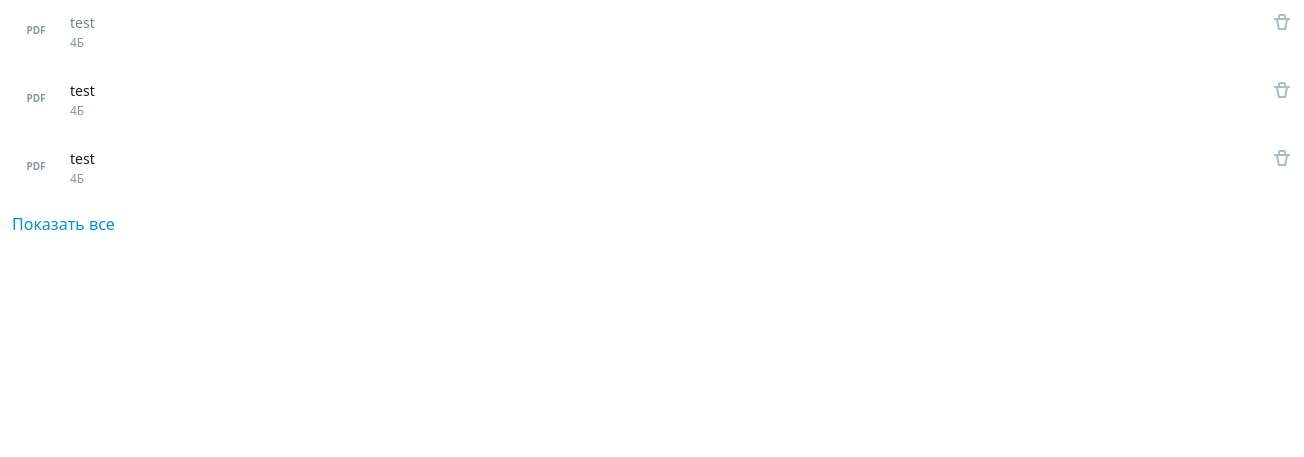
Scenario: Компонент AttachmentFileList › Если передан массив файлов с более чем тремя элементами и нажата кнопка "Показать все", то отображаются все файлы
Check: the number of "AttachmentFile" components is 3, box [12,12,1292,60]; [12,80,1292,128]; [12,148,1292,196]
Click the text "Показать все" at coordinates (63, 224), box [12,212,115,236]
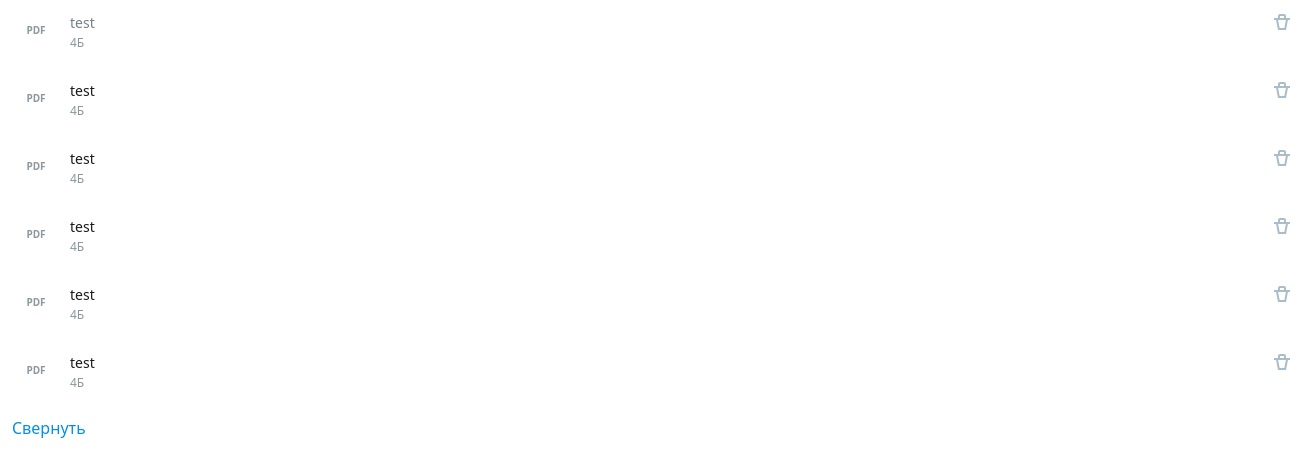
Check: the number of "AttachmentFile" components is 6, box [12,12,1292,60]; [12,80,1292,128]; [12,148,1292,196]; [12,216,1292,264]; [12,284,1292,332]; [12,352,1292,400]
Click the text "Свернуть" at coordinates (49, 428), box [12,416,86,440]
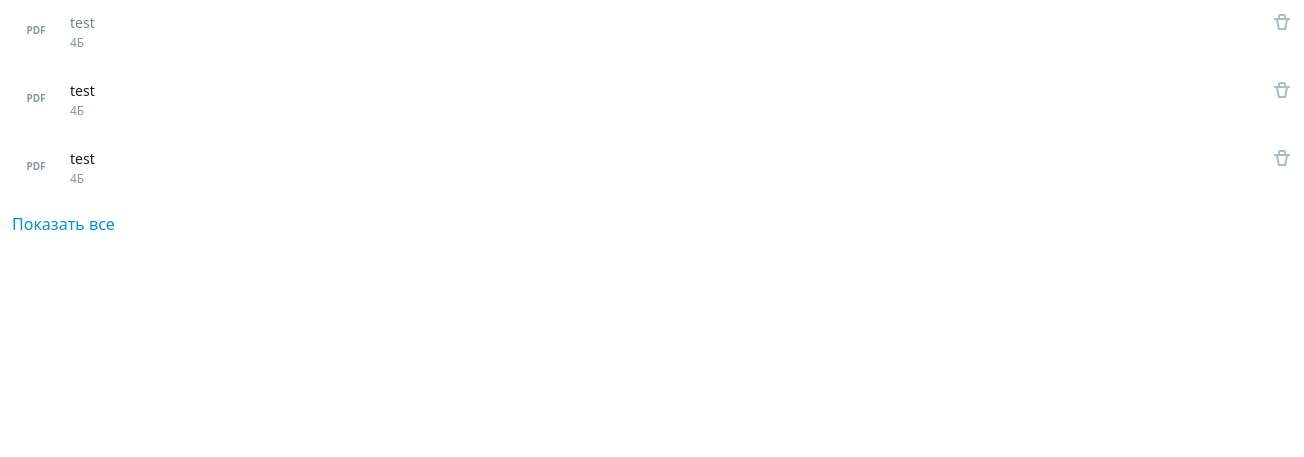
Check: the number of "AttachmentFile" components is 3, box [12,12,1292,60]; [12,80,1292,128]; [12,148,1292,196]
